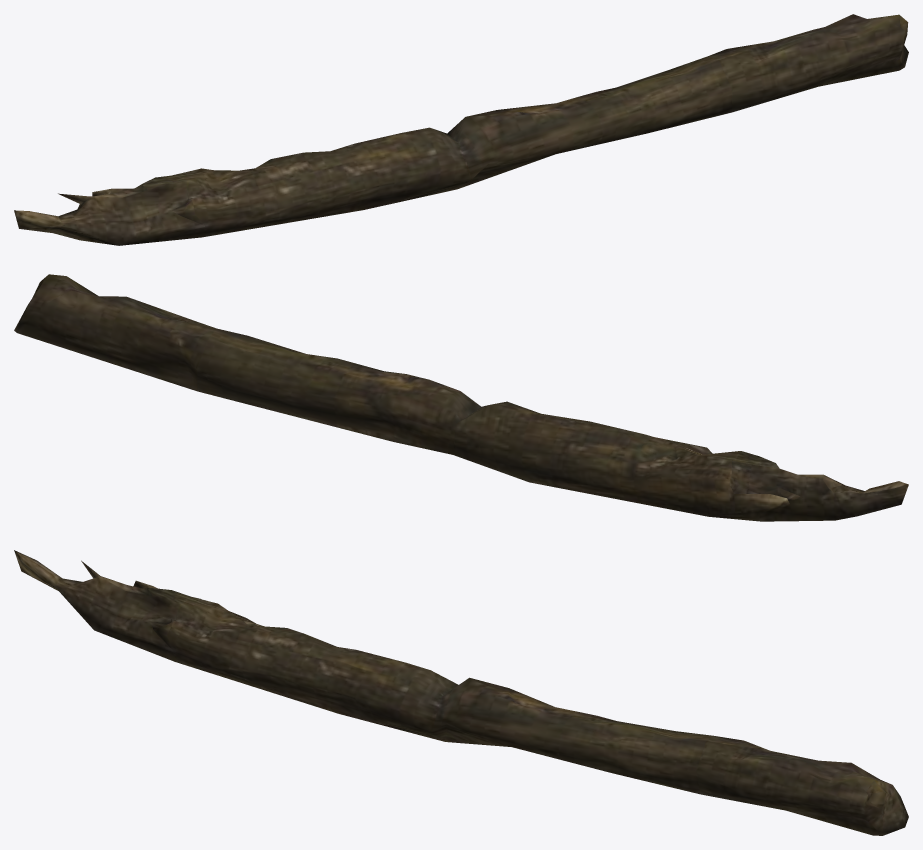
The picture shows the model from 3 angles, top to bottom: view 1: azimuth 30°, elevation 25°; view 2: azimuth 150°, elevation 25°; view 3: azimuth 330°, elevation 25°; orthographic projection.
Visible parts, largest first — view 1: dead_tree_trunk_lod2; view 2: dead_tree_trunk_lod2; view 3: dead_tree_trunk_lod2.
Part boxes in pixels (left/top/right/bottom): dead_tree_trunk_lod2: left=14, top=14, right=908, bottom=245; dead_tree_trunk_lod2: left=14, top=274, right=908, bottom=521; dead_tree_trunk_lod2: left=14, top=550, right=908, bottom=835.
Size of the model in its own units: 3.04 by 0.2665 by 0.2665.
Materials: 1 (1 with a texture image).
